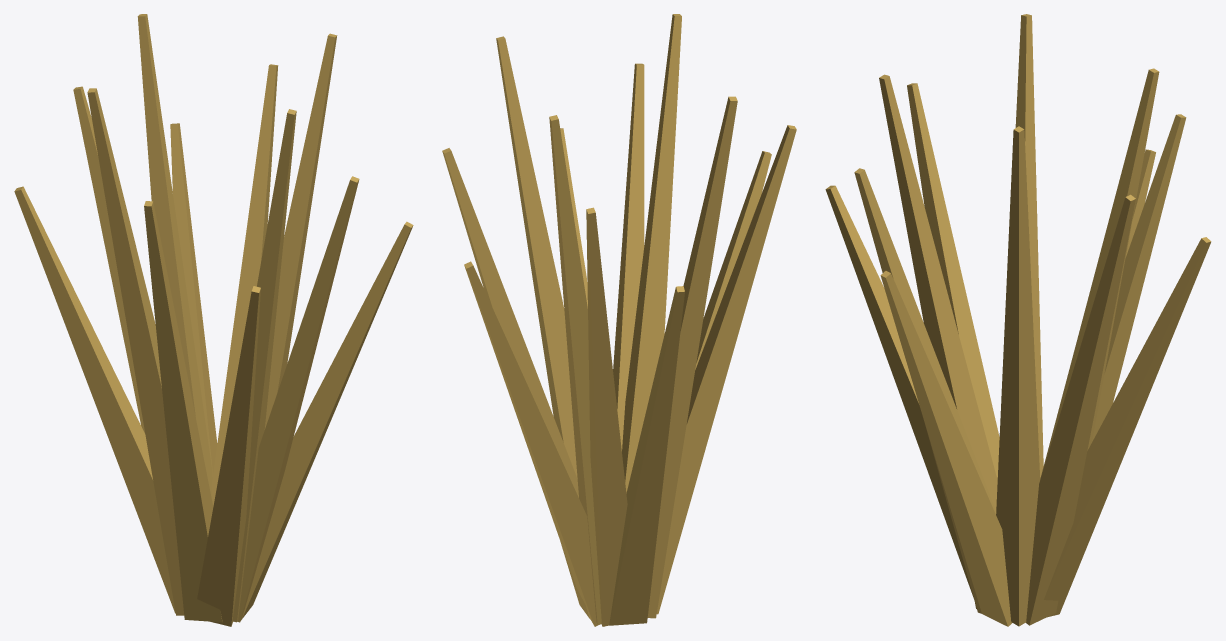
The model's file is scatter3.fbx.
3 views of the same model, side by side, from view 1: azimuth 30°, elevation 25°; view 2: azimuth 150°, elevation 25°; view 3: azimuth 270°, elevation 25° (orthographic).
Parts seen in each view (by area): view 1: a2000/800/scatter3; view 2: a2000/800/scatter3; view 3: a2000/800/scatter3.
Boxes of the visible parts, <box> form: a2000/800/scatter3: <box>14,14,413,626</box>; a2000/800/scatter3: <box>442,14,796,626</box>; a2000/800/scatter3: <box>825,14,1211,626</box>.
Bounding box in the file's own units: 0.5563 × 1.1 × 0.7099.
